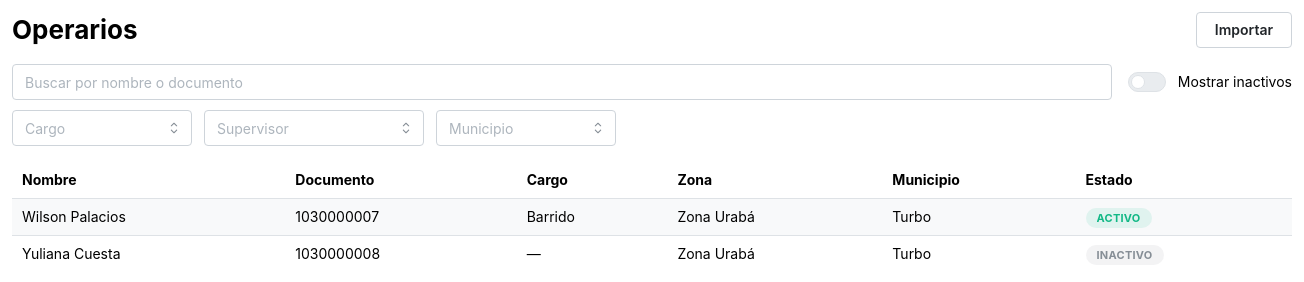
it: OperariosPage › filters rows by the search box
Step 1. Type "Wilson" into the field named "Buscar operarios" → x=562, y=82, box [12, 64, 1112, 100]
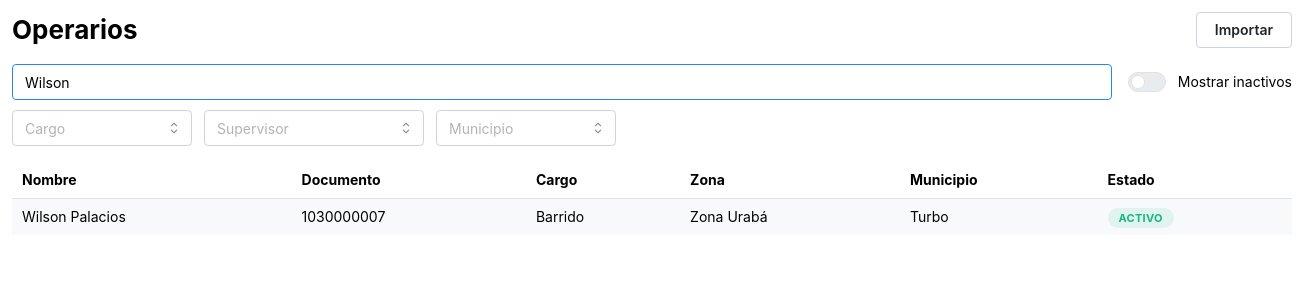
Check: the text "Wilson Palacios" is shown, box [12, 198, 292, 235]
Check: the text "Yuliana Cuesta" is gone
